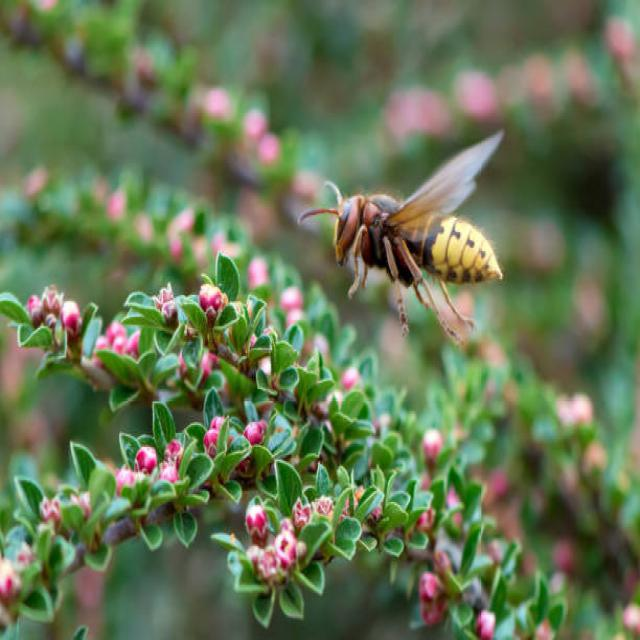Vespa Crabro: (287, 114, 530, 350)
